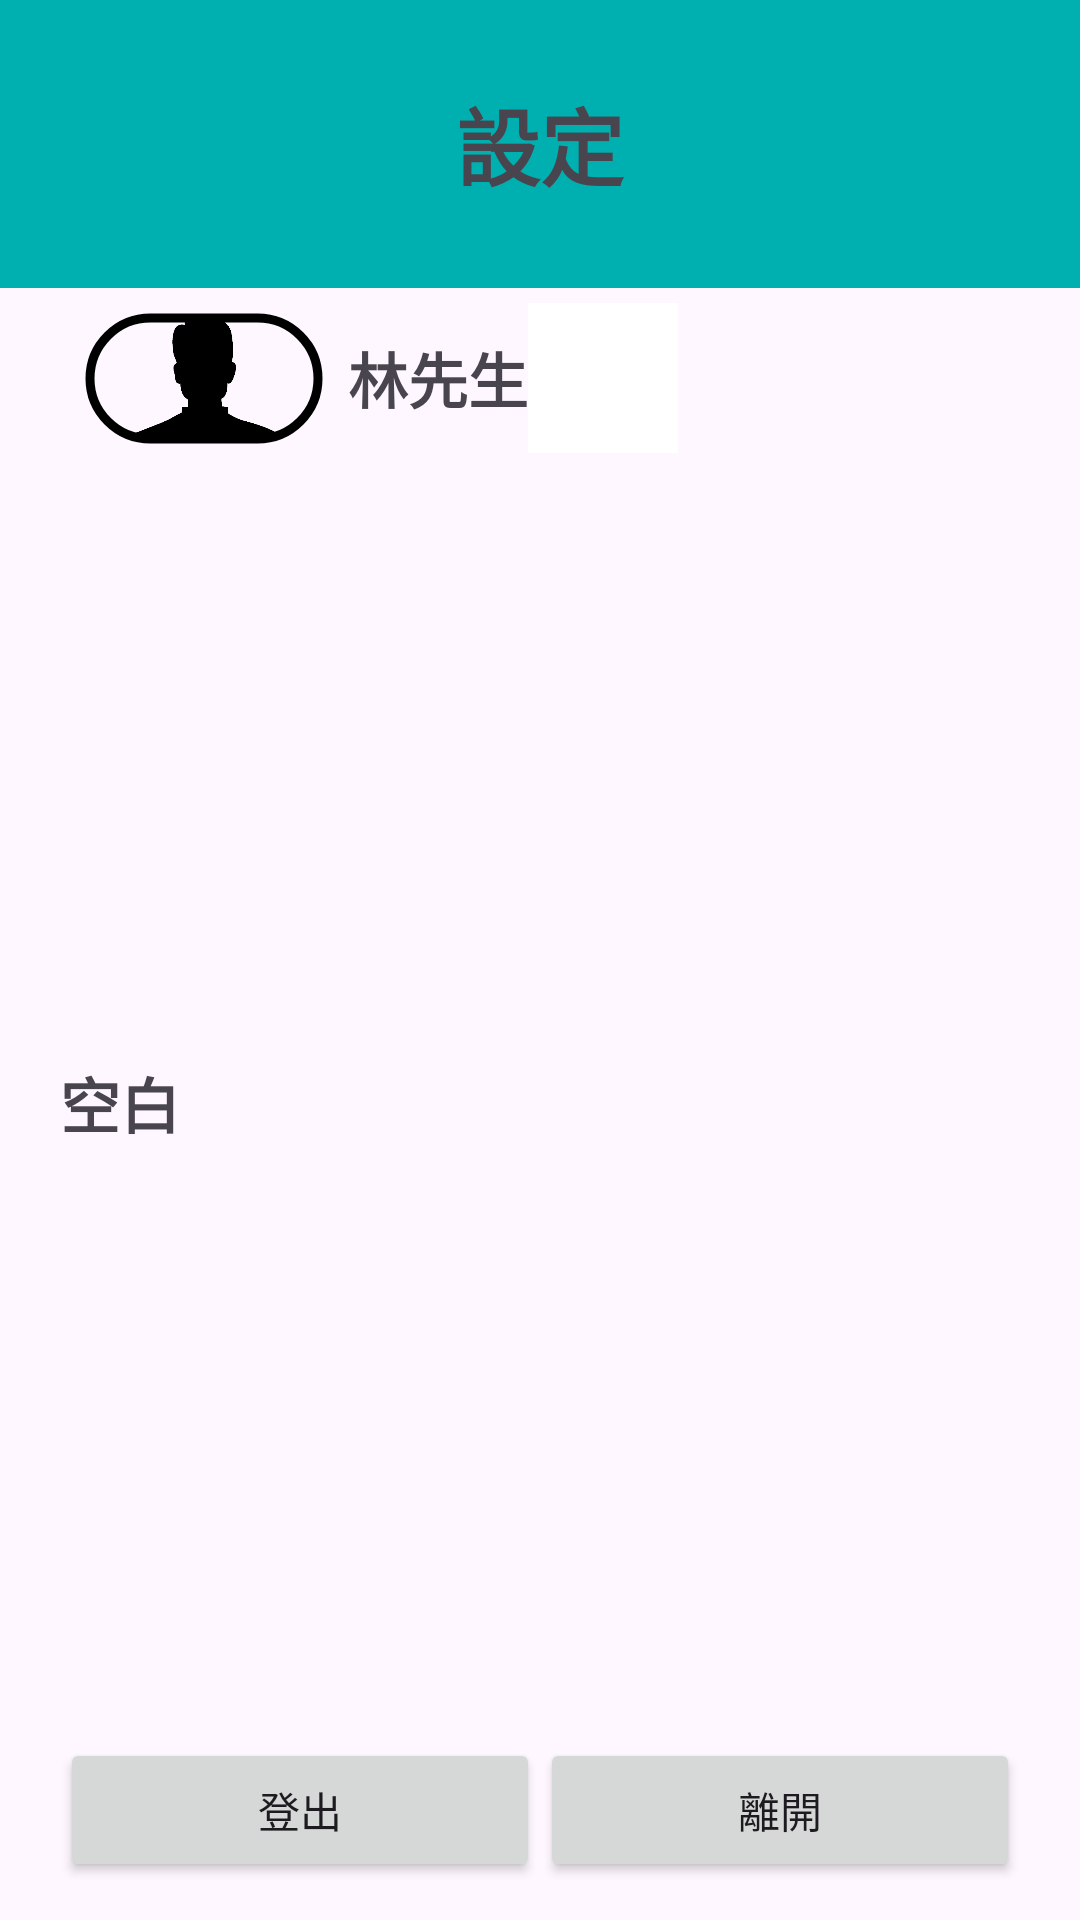

Locate icon controls on the screen. Image size 1080 × 1920, boxes as (x1, y1, x2, y2).
headshot: (85, 313, 323, 444)
